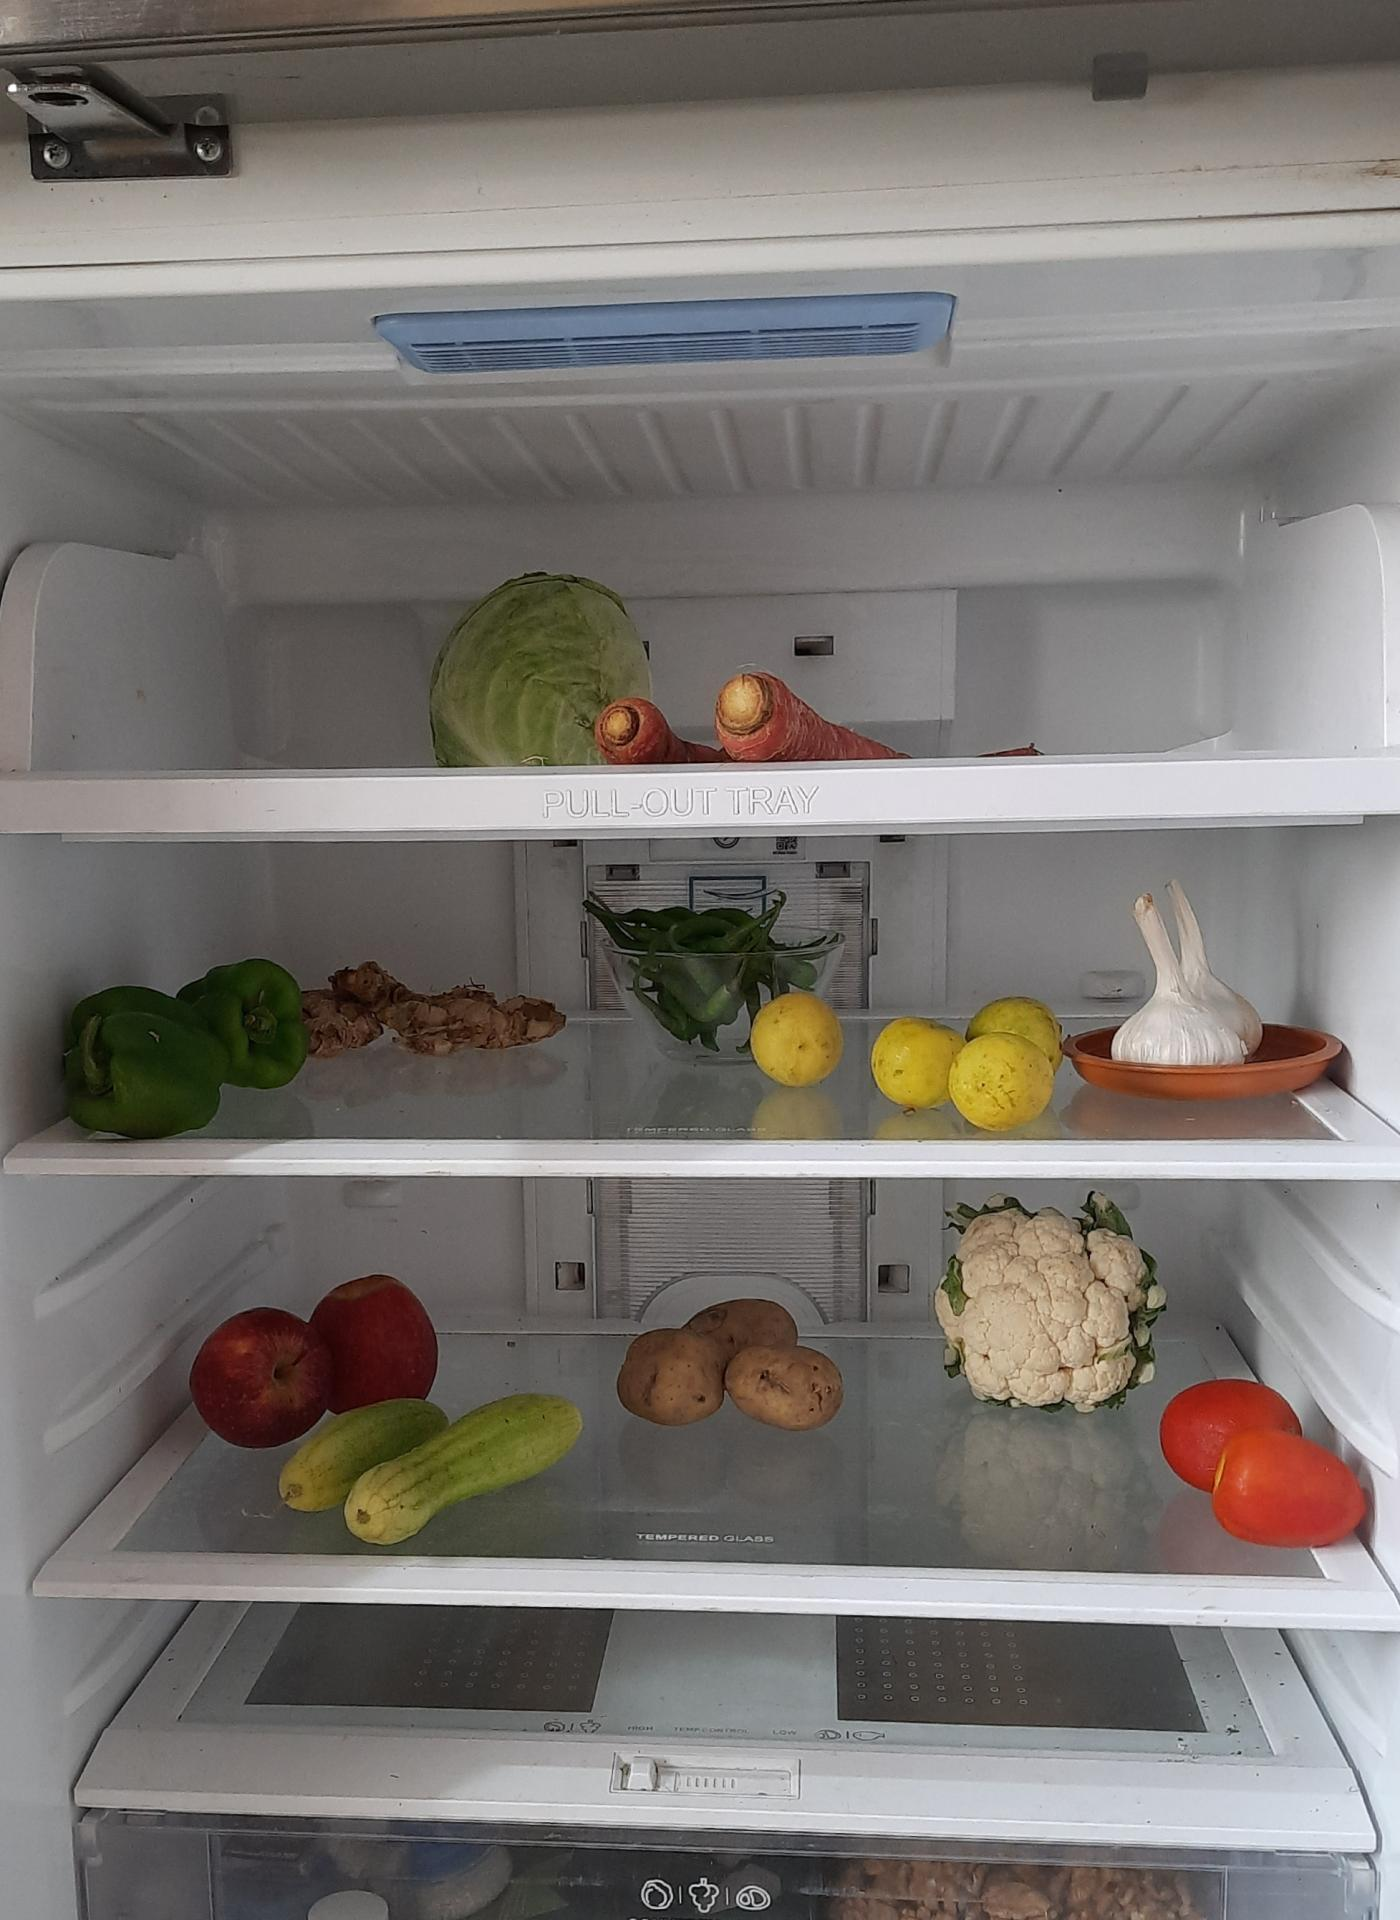apple: (198, 1272, 447, 1449)
cabbage: (428, 566, 662, 760)
capsicum: (63, 956, 313, 1136)
carrots: (608, 678, 923, 778)
cauliflower: (933, 1196, 1160, 1410)
chillies: (595, 902, 783, 1052)
cucumber: (279, 1392, 580, 1546)
garlic: (1106, 863, 1275, 1067)
ginger: (300, 948, 576, 1057)
lemon: (875, 994, 1073, 1125), (747, 988, 841, 1087)
potato: (608, 1280, 842, 1436)
tomato: (1158, 1379, 1369, 1556)
